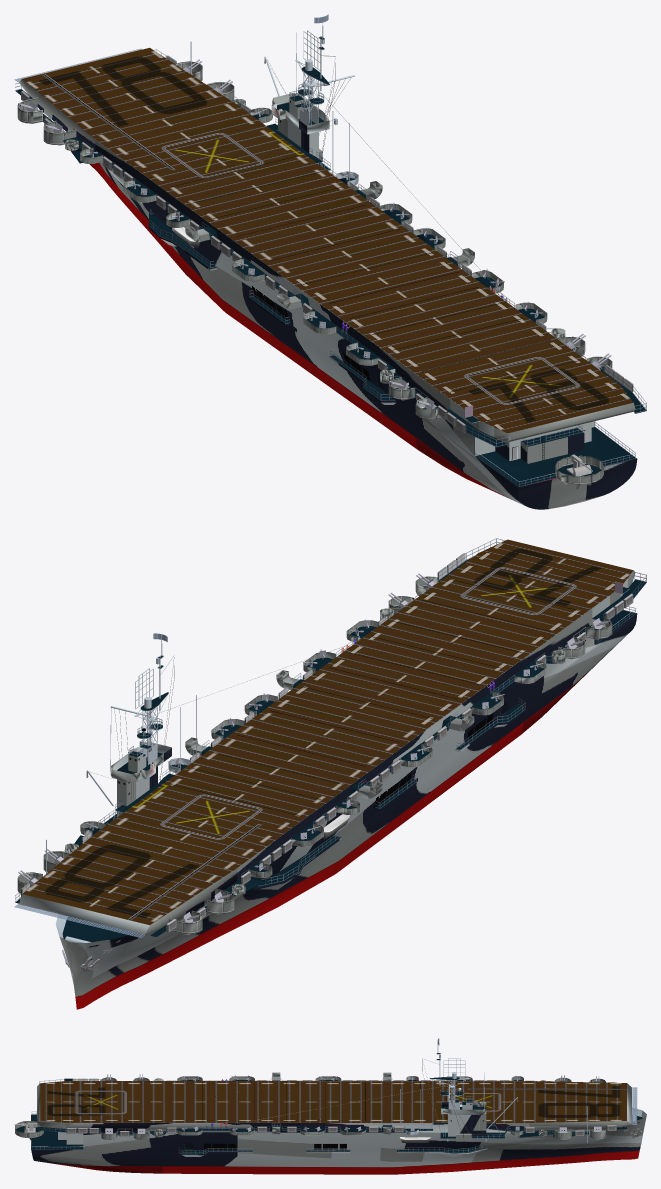
The model's file is CVE_noflag.glb.
The picture shows the model from 3 angles, top to bottom: view 1: azimuth 30°, elevation 25°; view 2: azimuth 150°, elevation 25°; view 3: azimuth 270°, elevation 25°; orthographic projection. The views are drawn at different scales.
Parts seen in each view (by area): view 1: deck, CVE; view 2: deck, CVE; view 3: CVE, deck.
Part boxes in pixels (<box>): deck: <box>19,47,635,442</box>; CVE: <box>14,14,646,509</box>; deck: <box>19,539,635,934</box>; CVE: <box>14,538,646,1009</box>; CVE: <box>14,1038,646,1174</box>; deck: <box>37,1081,631,1132</box>.
Size of the model in its own units: 120 by 123 by 497.
32 materials, 9 textured.
